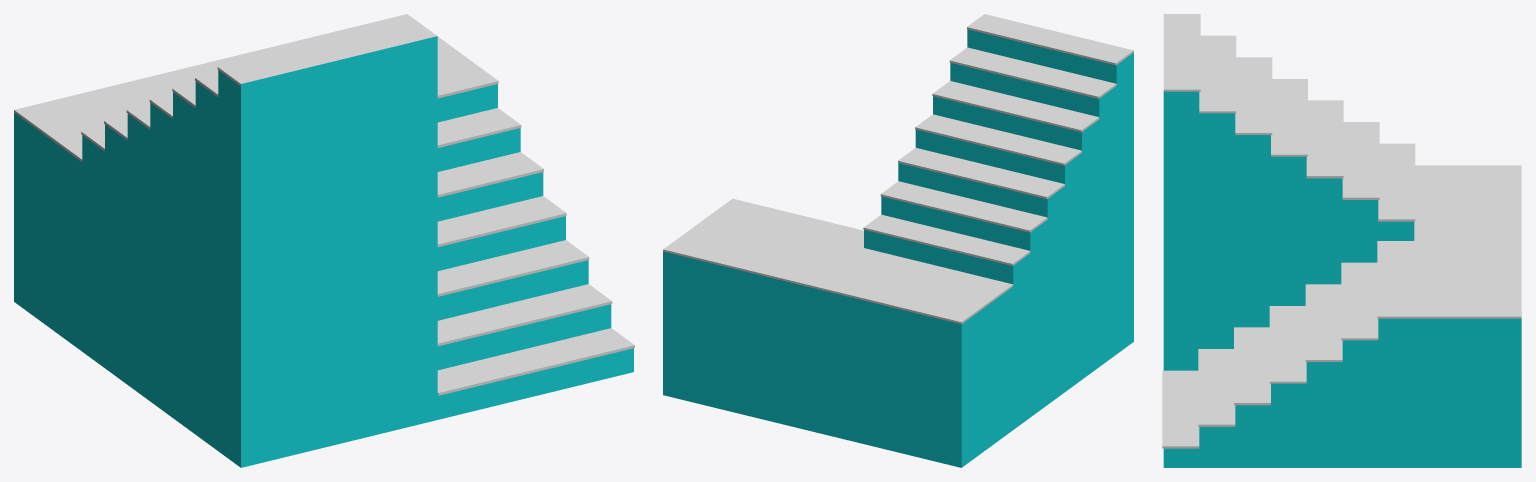
File: Stairs.fbx
3 renders of one model, left to right at view 1: azimuth 30°, elevation 25°; view 2: azimuth 150°, elevation 25°; view 3: azimuth 270°, elevation 25°, orthographic. The views are drawn at different scales.
Parts seen in each view (by area): view 1: Cube; view 2: Cube; view 3: Cube.
Part boxes in pixels (box(x1,y1,x2,y2)): Cube: box(14, 14, 634, 467); Cube: box(663, 14, 1133, 467); Cube: box(1162, 14, 1521, 467).
Size of the model in its own units: 300 by 280 by 301.
